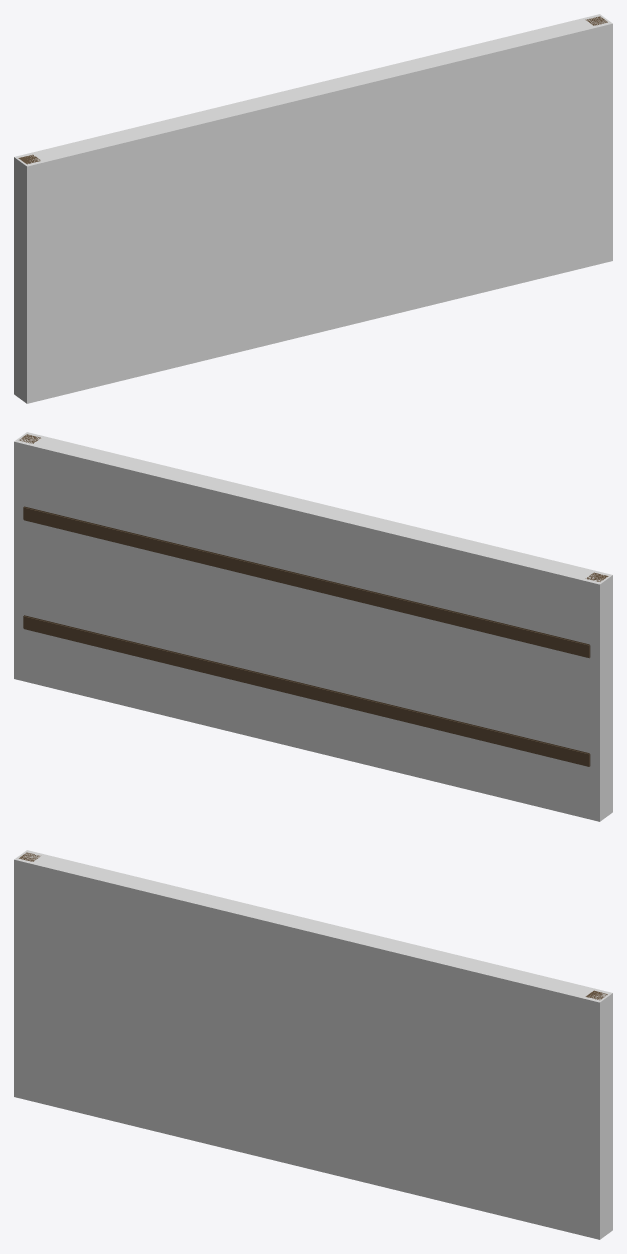
The model's file is fence_picket.glb.
3 views of the same model, one above another, from view 1: azimuth 30°, elevation 25°; view 2: azimuth 150°, elevation 25°; view 3: azimuth 330°, elevation 25° (orthographic).
Parts seen in each view (by area): view 1: fence_picket-col; view 2: fence_picket-col, picket_fence; view 3: fence_picket-col.
Boxes of the visible parts, x1,y1,x2,y2 form: fence_picket-col: (14,14,612,403); fence_picket-col: (14,432,612,821); picket_fence: (19,434,608,766); fence_picket-col: (14,850,612,1239).
Bounding box in the file's own units: 3.1 × 1.2 × 0.125.
